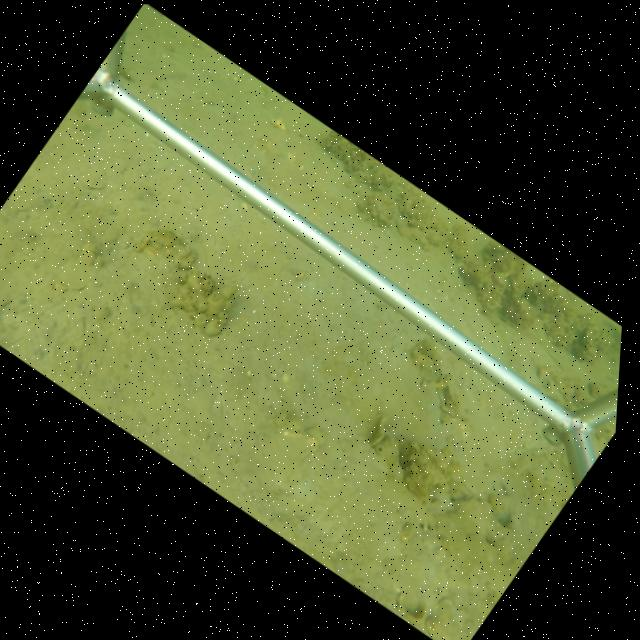Oyster-Closed: (365, 414, 392, 450)
